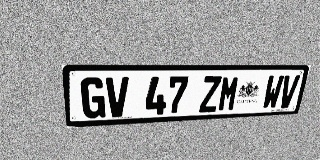4: (145, 76, 168, 115)
7: (166, 76, 189, 114)
G: (80, 77, 105, 119)
M: (217, 76, 240, 112)
V: (106, 77, 129, 118), (277, 75, 300, 108)
W: (261, 75, 284, 109)
Z: (199, 76, 222, 113)
